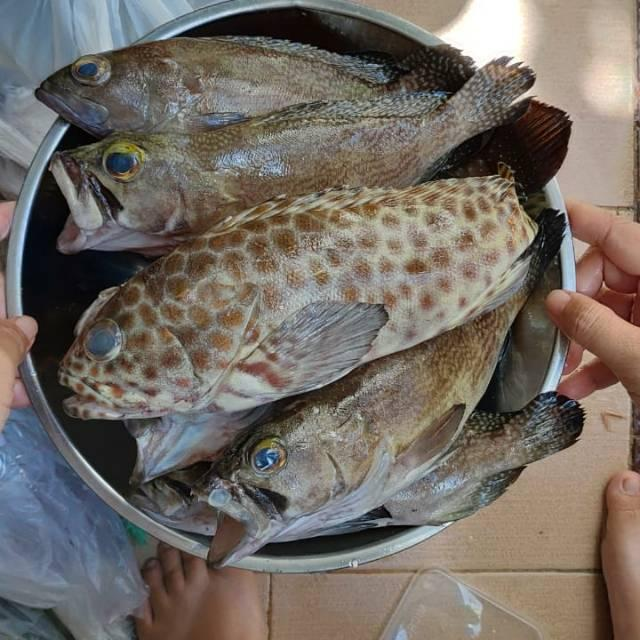grouper: (189, 256, 604, 582), (53, 162, 550, 426), (45, 54, 543, 261), (32, 32, 462, 132)
